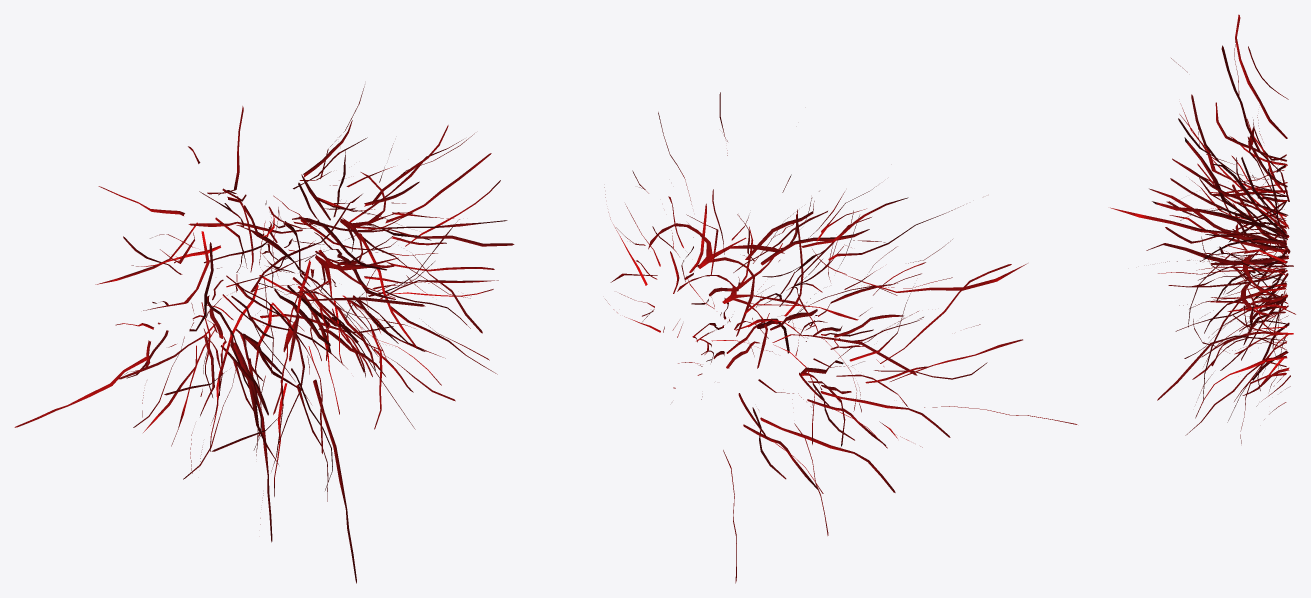
File: TundraGrass_LOD0_Var3.gltf
The picture shows the model from 3 angles, left to right: view 1: azimuth 30°, elevation 25°; view 2: azimuth 150°, elevation 25°; view 3: azimuth 270°, elevation 25°; orthographic projection. The views are drawn at different scales.
Visible parts, largest first — view 1: lods_0; view 2: lods_0; view 3: lods_0.
Part boxes in pixels (x1,y1,x2,y2): lods_0: [14, 86, 514, 583]; lods_0: [604, 92, 1077, 583]; lods_0: [1110, 14, 1295, 443].
Size of the model in its own units: 1.12 by 1.17 by 0.3647.
Materials: 1 (1 with a texture image).
